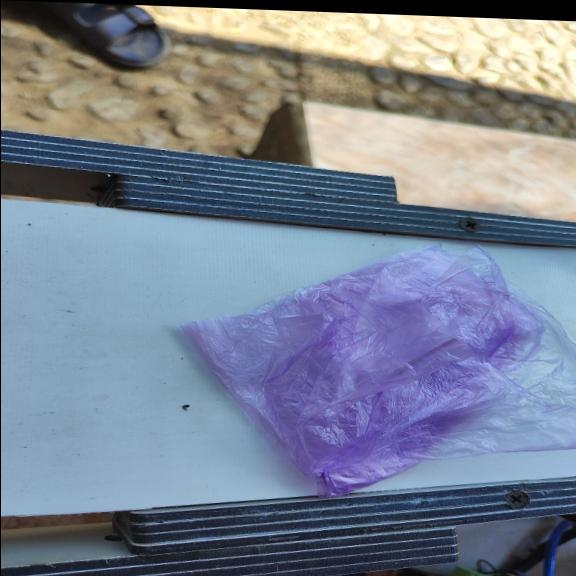Plastik: (182, 231, 576, 508)
